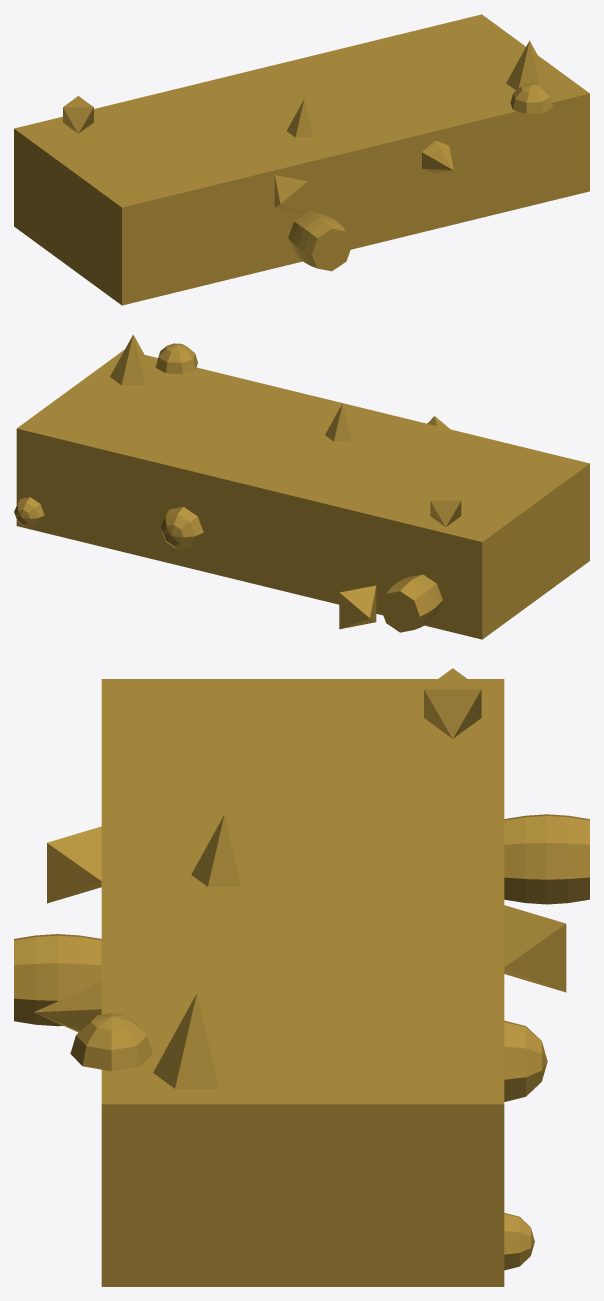
3 renders of one model, top to bottom at view 1: azimuth 30°, elevation 25°; view 2: azimuth 150°, elevation 25°; view 3: azimuth 270°, elevation 25°, orthographic. The views are drawn at different scales.
Parts seen in each view (by area): view 1: object06_high; view 2: object06_high; view 3: object06_high.
Part boxes in pixels (x1=…): object06_high: x1=14, y1=14, x2=589, y2=305; object06_high: x1=14, y1=334, x2=589, y2=639; object06_high: x1=14, y1=668, x2=589, y2=1286.
Size of the model in its own units: 5 by 1.63 by 2.86.
